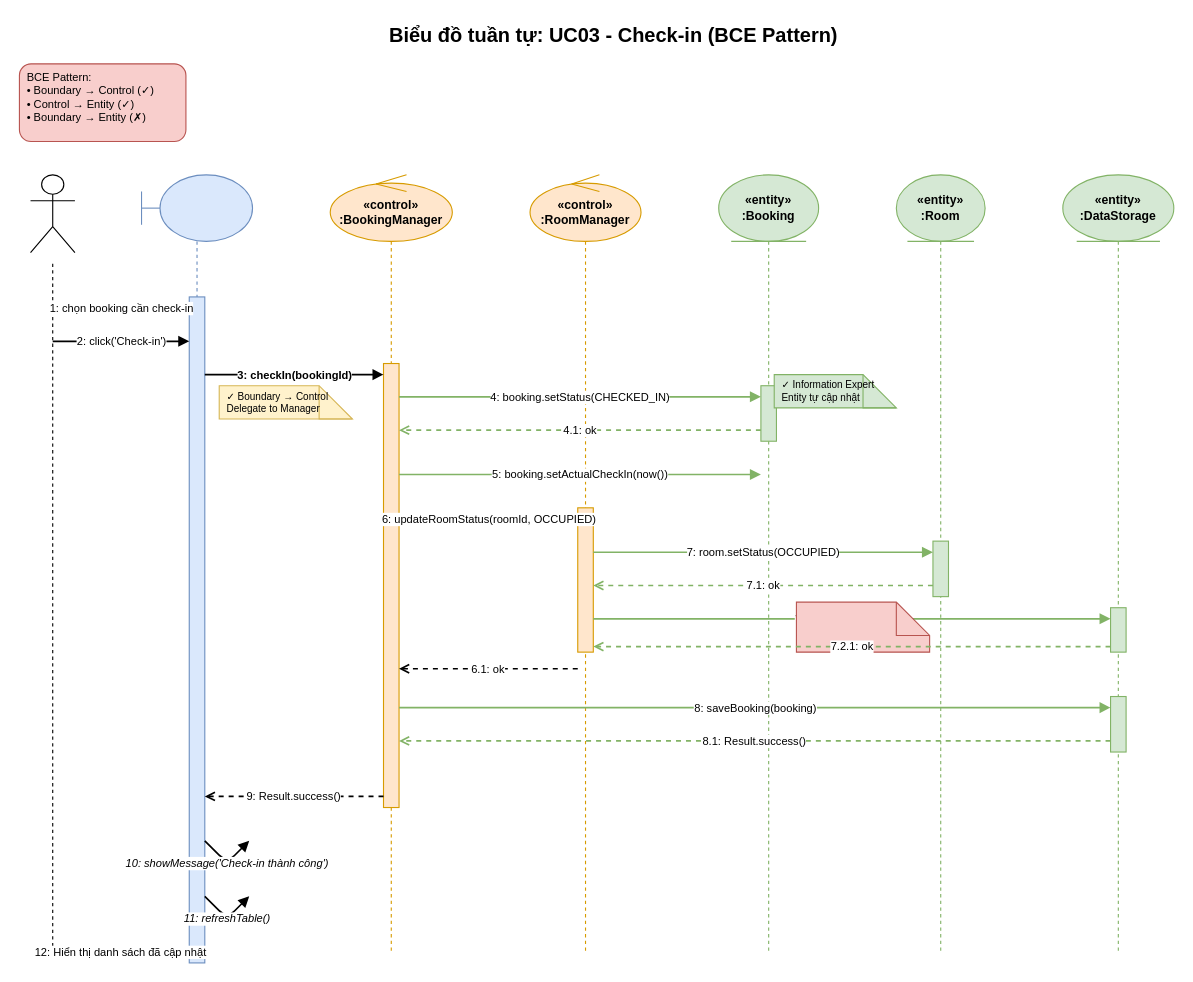
Some shapes in this 1193 by 982 pixel diagram are drawn without their labels. The shapes that lost their labels are listed below. From the top down, each one's centre as x and y in pixels, then its label:
the point at 52,213: Lễ tân
the point at 196,207: «boundary» :BookingPanel
the point at 862,626: ✓ Data Integrity Lưu Room OCCUPIED trước khi return
